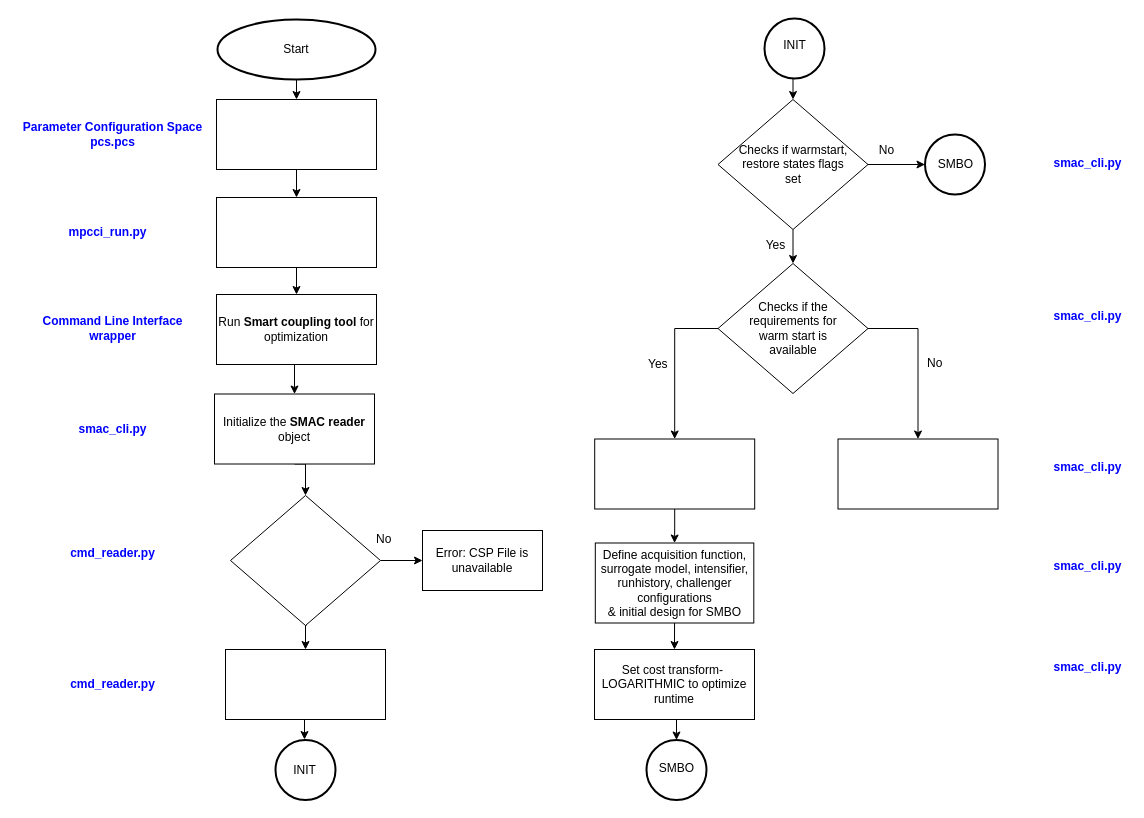
Image size: 1144x818. Some labels were removed from this diagram. The shapes that lost their labels are listed below. From the top down, each one's centre as x and y in pixels, then its label:
the point at 296,134: Define the configuration space for the Hyperparameters of MpCCI
the point at 296,232: Set the Target algorithm evaluation procedure
the point at 674,473: Use the stats and runhistory. Initialize the incumbent configuration
the point at 917,473: Error: Requirements are unavailable
the point at 305,560: Checks CSP File availability
the point at 305,684: Initialize the main, smac and scenario arguments
